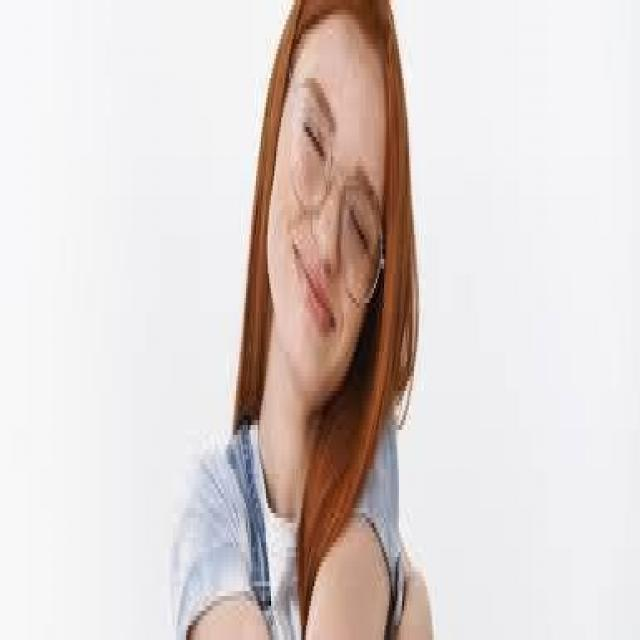person: (164, 0, 439, 635)
